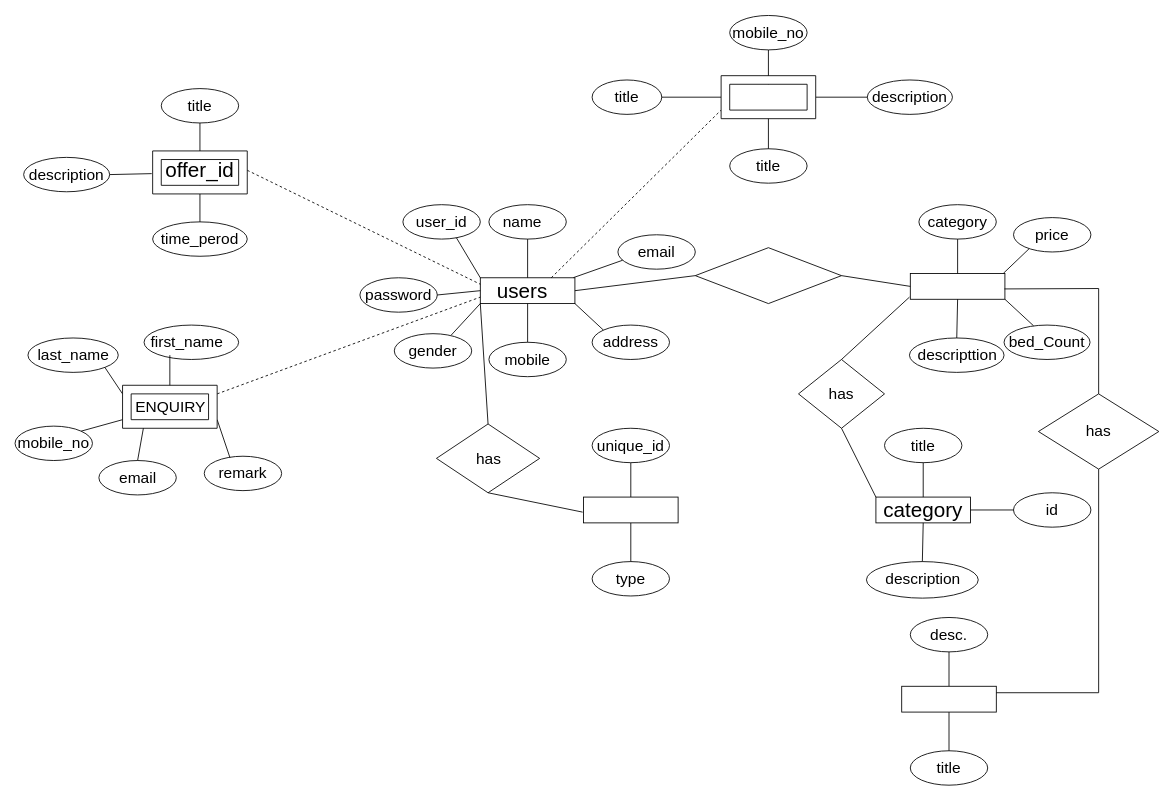
Some shapes in this 1174 by 800 pixel diagram are drawn without their labels. The shapes that lost their labels are listed below. From the top down, each one's centre as x and y in pixels, then its label:
At pixel 768 97: "contact_us".
At pixel 768 275: "Booked".
At pixel 957 286: "rooms".
At pixel 630 509: "id_proof".
At pixel 948 698: "facilities".
